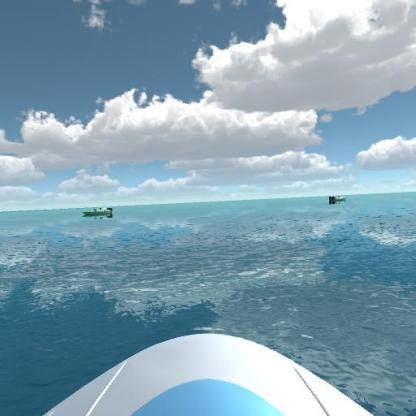usv0: (81, 203, 115, 219), (326, 192, 347, 206)
